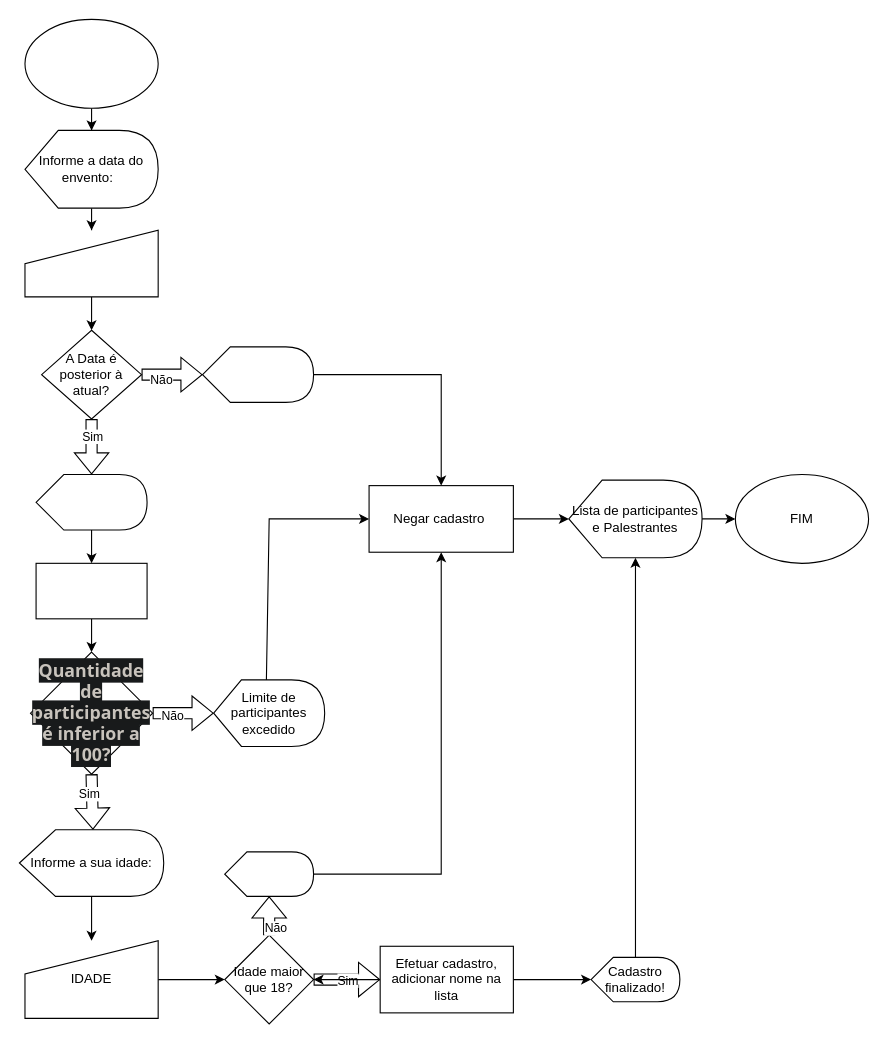
Some shapes in this 888 by 1047 pixel diagram are drawn without their labels. Here are the shapes that lost their labels. From the top down, the centre of each, then its label:
At point (91, 63): "INICIO".
At point (91, 263): "Data".
At point (257, 374): "Data inválida".
At point (91, 501): "Data válida".
At point (91, 590): "Permitir evento".
At point (269, 873): "Idade inválida".
